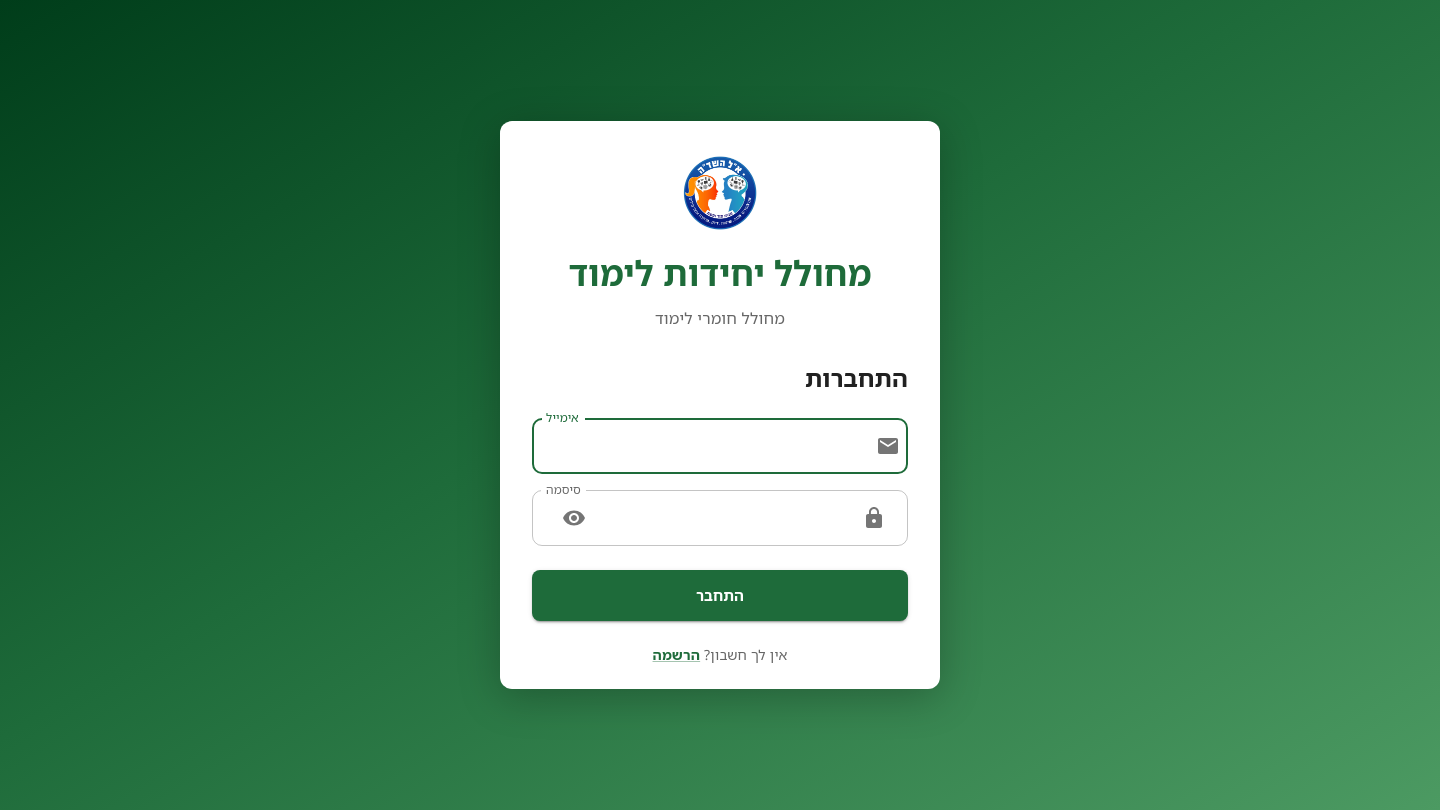
Scenario: LoginPage › shows validation error for empty email
Click the button "התחבר".
click(720, 595)  # box [532,570,908,621]
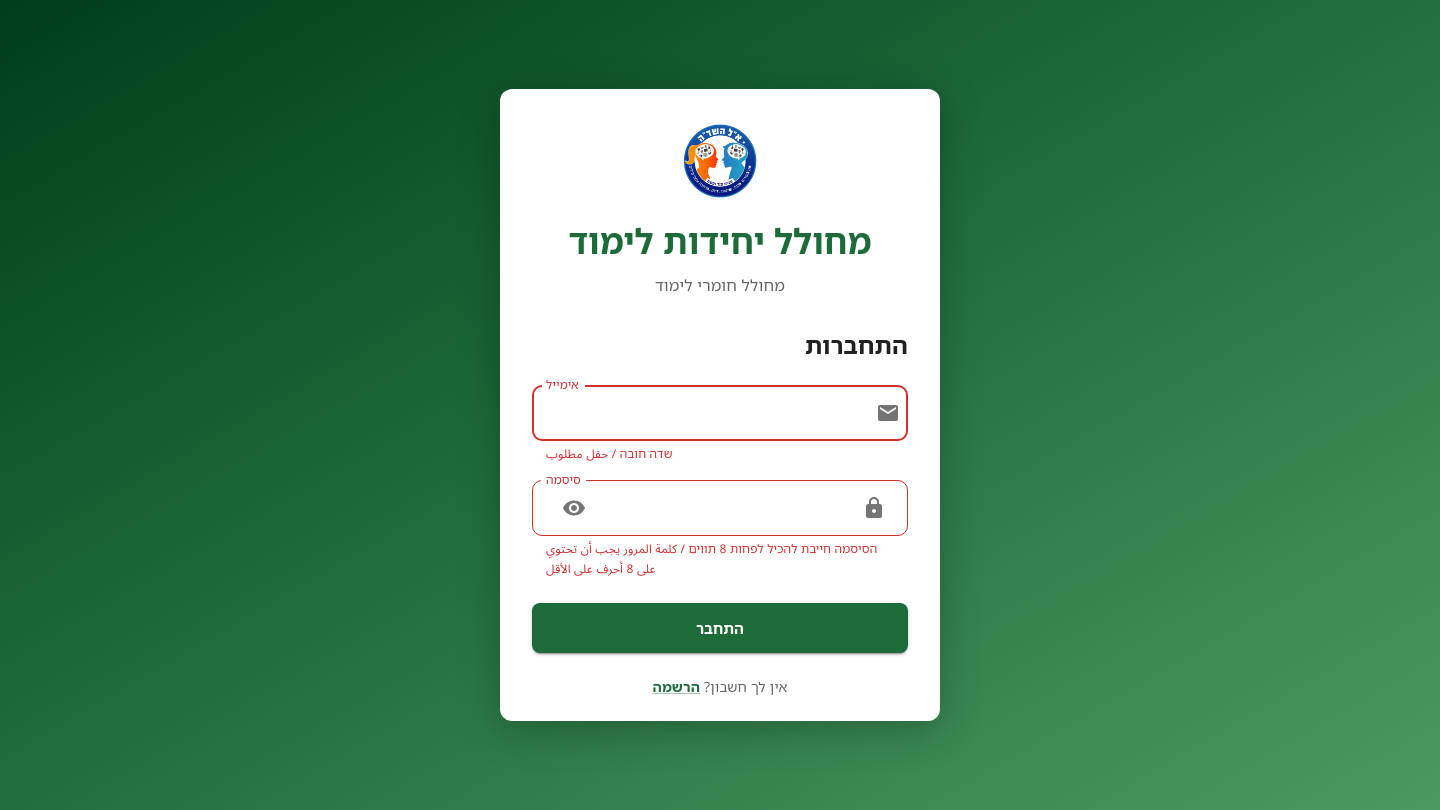
Now the text "שדה חובה / حقل مطلوب" is shown, box [546,446,673,462]
